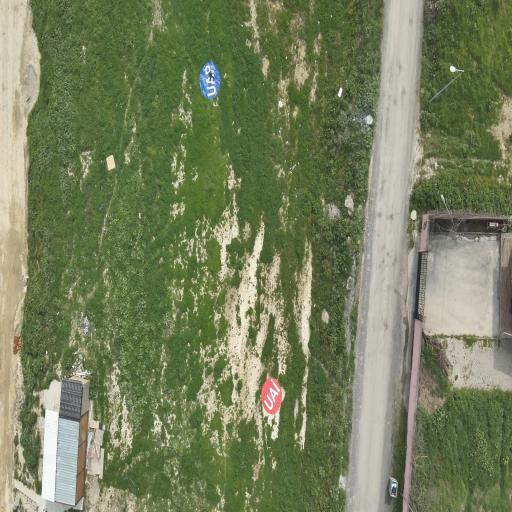person: (209, 71, 215, 81)
uai: (262, 377, 282, 414)
uap: (199, 62, 220, 99)
